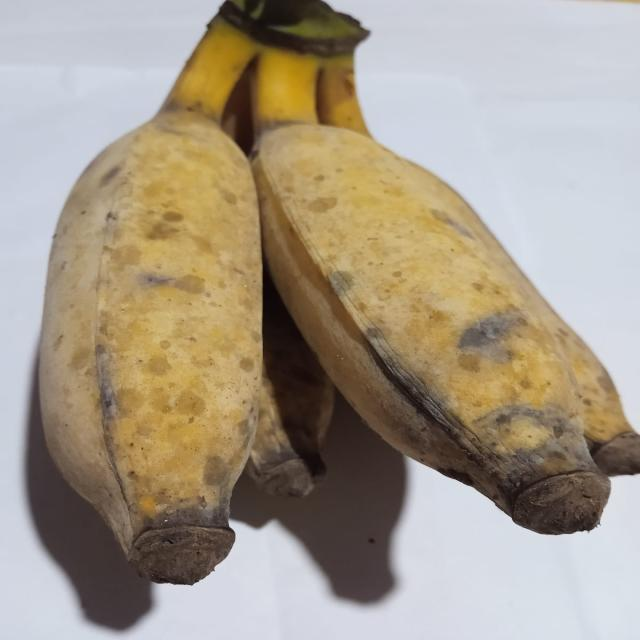banana: (254, 51, 609, 533), (40, 20, 261, 583), (443, 184, 639, 475), (246, 275, 334, 497), (247, 280, 334, 497)
